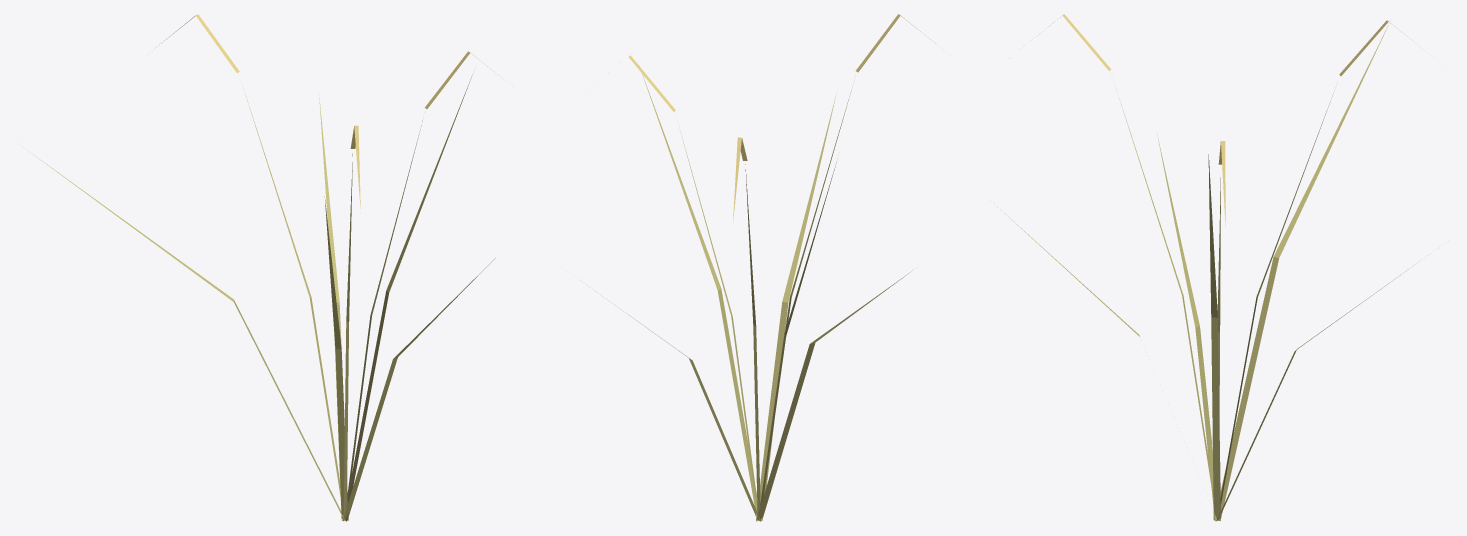
File: rice_ripening_lod1.glb
3 views of the same model, side by side, from view 1: azimuth 30°, elevation 25°; view 2: azimuth 150°, elevation 25°; view 3: azimuth 270°, elevation 25° (orthographic).
Parts seen in each view (by area): view 1: rice_ripening_leaves, rice_ripening_culms, rice_ripening_panicles; view 2: rice_ripening_leaves, rice_ripening_culms, rice_ripening_panicles; view 3: rice_ripening_leaves, rice_ripening_culms, rice_ripening_panicles.
Boxes of the visible parts, x1,y1,x2,y2 form: rice_ripening_leaves: (23, 74, 495, 521); rice_ripening_culms: (243, 87, 422, 519); rice_ripening_panicles: (157, 14, 502, 208); rice_ripening_leaves: (580, 74, 912, 521); rice_ripening_culms: (679, 90, 851, 520); rice_ripening_panicles: (629, 14, 935, 221); rice_ripening_leaves: (990, 21, 1419, 521); rice_ripening_culms: (1116, 89, 1332, 520); rice_ripening_panicles: (1052, 14, 1422, 226).
Size of the model in its own units: 0.8774 by 0.9097 by 0.817.
